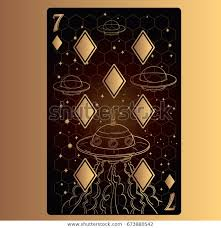seven of diamonds: (46, 6, 181, 215)
